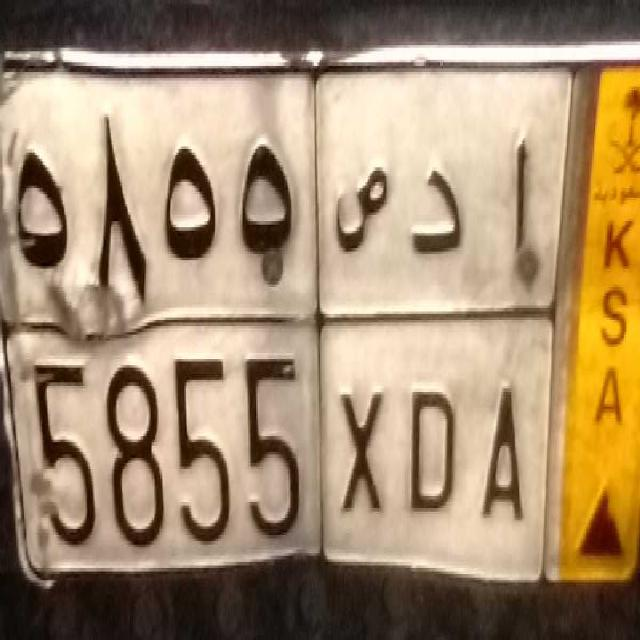license_plate: (4, 318, 538, 602)
